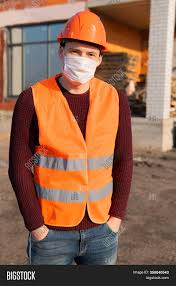Helmet: (60, 10, 108, 48)
Jacket: (19, 80, 122, 230)
Mask: (57, 55, 95, 89)
